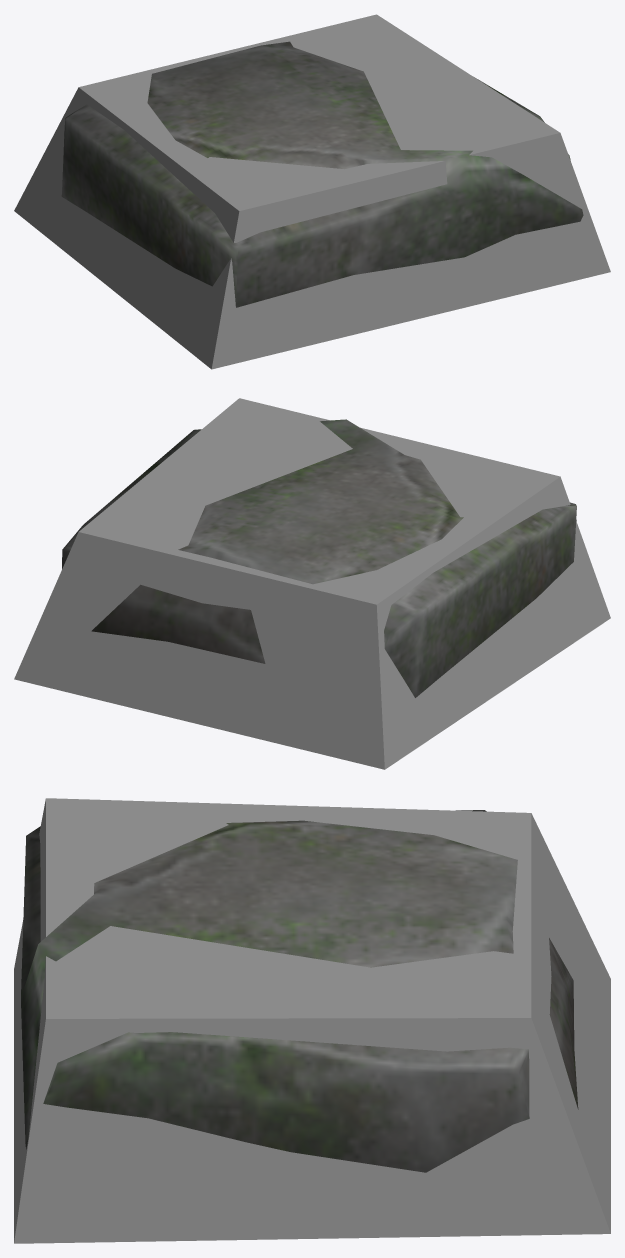
Rendered from Scene_Rock_SuiShiTi_1.fbx.
The picture shows the model from 3 angles, top to bottom: view 1: azimuth 30°, elevation 25°; view 2: azimuth 150°, elevation 25°; view 3: azimuth 270°, elevation 25°; orthographic projection. The views are drawn at different scales.
Parts seen in each view (by area): view 1: Scene_Rock_SuiShiTi_1_Xzm, Scene_Rock_SuiShiTi_1; view 2: Scene_Rock_SuiShiTi_1_Xzm, Scene_Rock_SuiShiTi_1; view 3: Scene_Rock_SuiShiTi_1_Xzm, Scene_Rock_SuiShiTi_1.
Part boxes in pixels (x1=…): Scene_Rock_SuiShiTi_1_Xzm: x1=14, y1=14, x2=610, y2=369; Scene_Rock_SuiShiTi_1: x1=61, y1=41, x2=583, y2=307; Scene_Rock_SuiShiTi_1_Xzm: x1=14, y1=398, x2=610, y2=769; Scene_Rock_SuiShiTi_1: x1=62, y1=419, x2=576, y2=697; Scene_Rock_SuiShiTi_1_Xzm: x1=14, y1=798, x2=610, y2=1243; Scene_Rock_SuiShiTi_1: x1=21, y1=810, x2=578, y2=1172.
Size of the model in its own units: 69.9 by 23.94 by 64.23.
